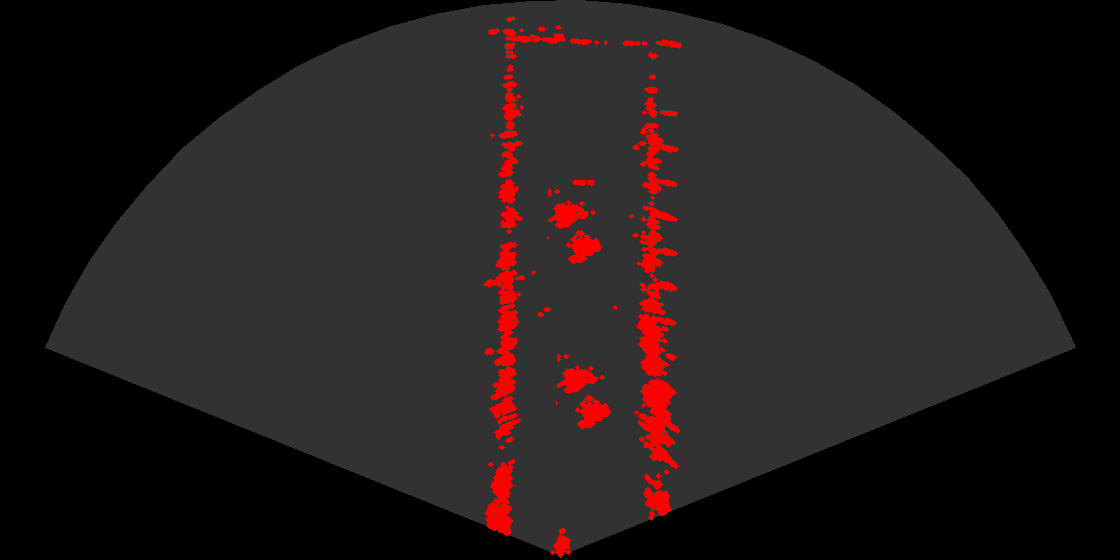ball: (548, 172, 608, 213)
cage: (556, 354, 619, 438), (547, 189, 610, 273)
